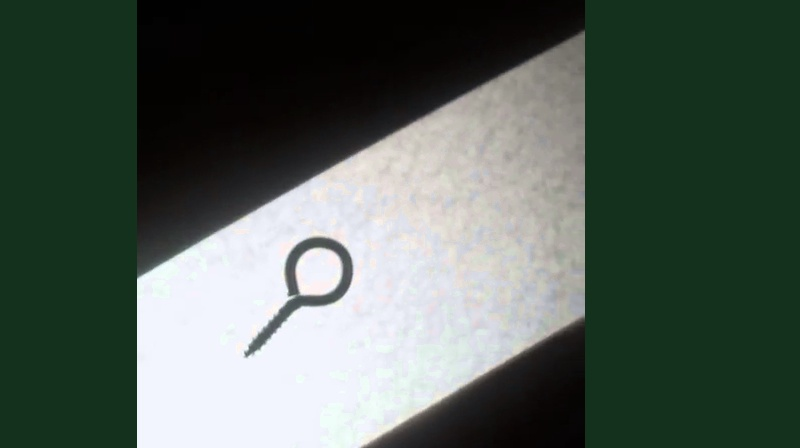O001: (235, 232, 356, 361)
